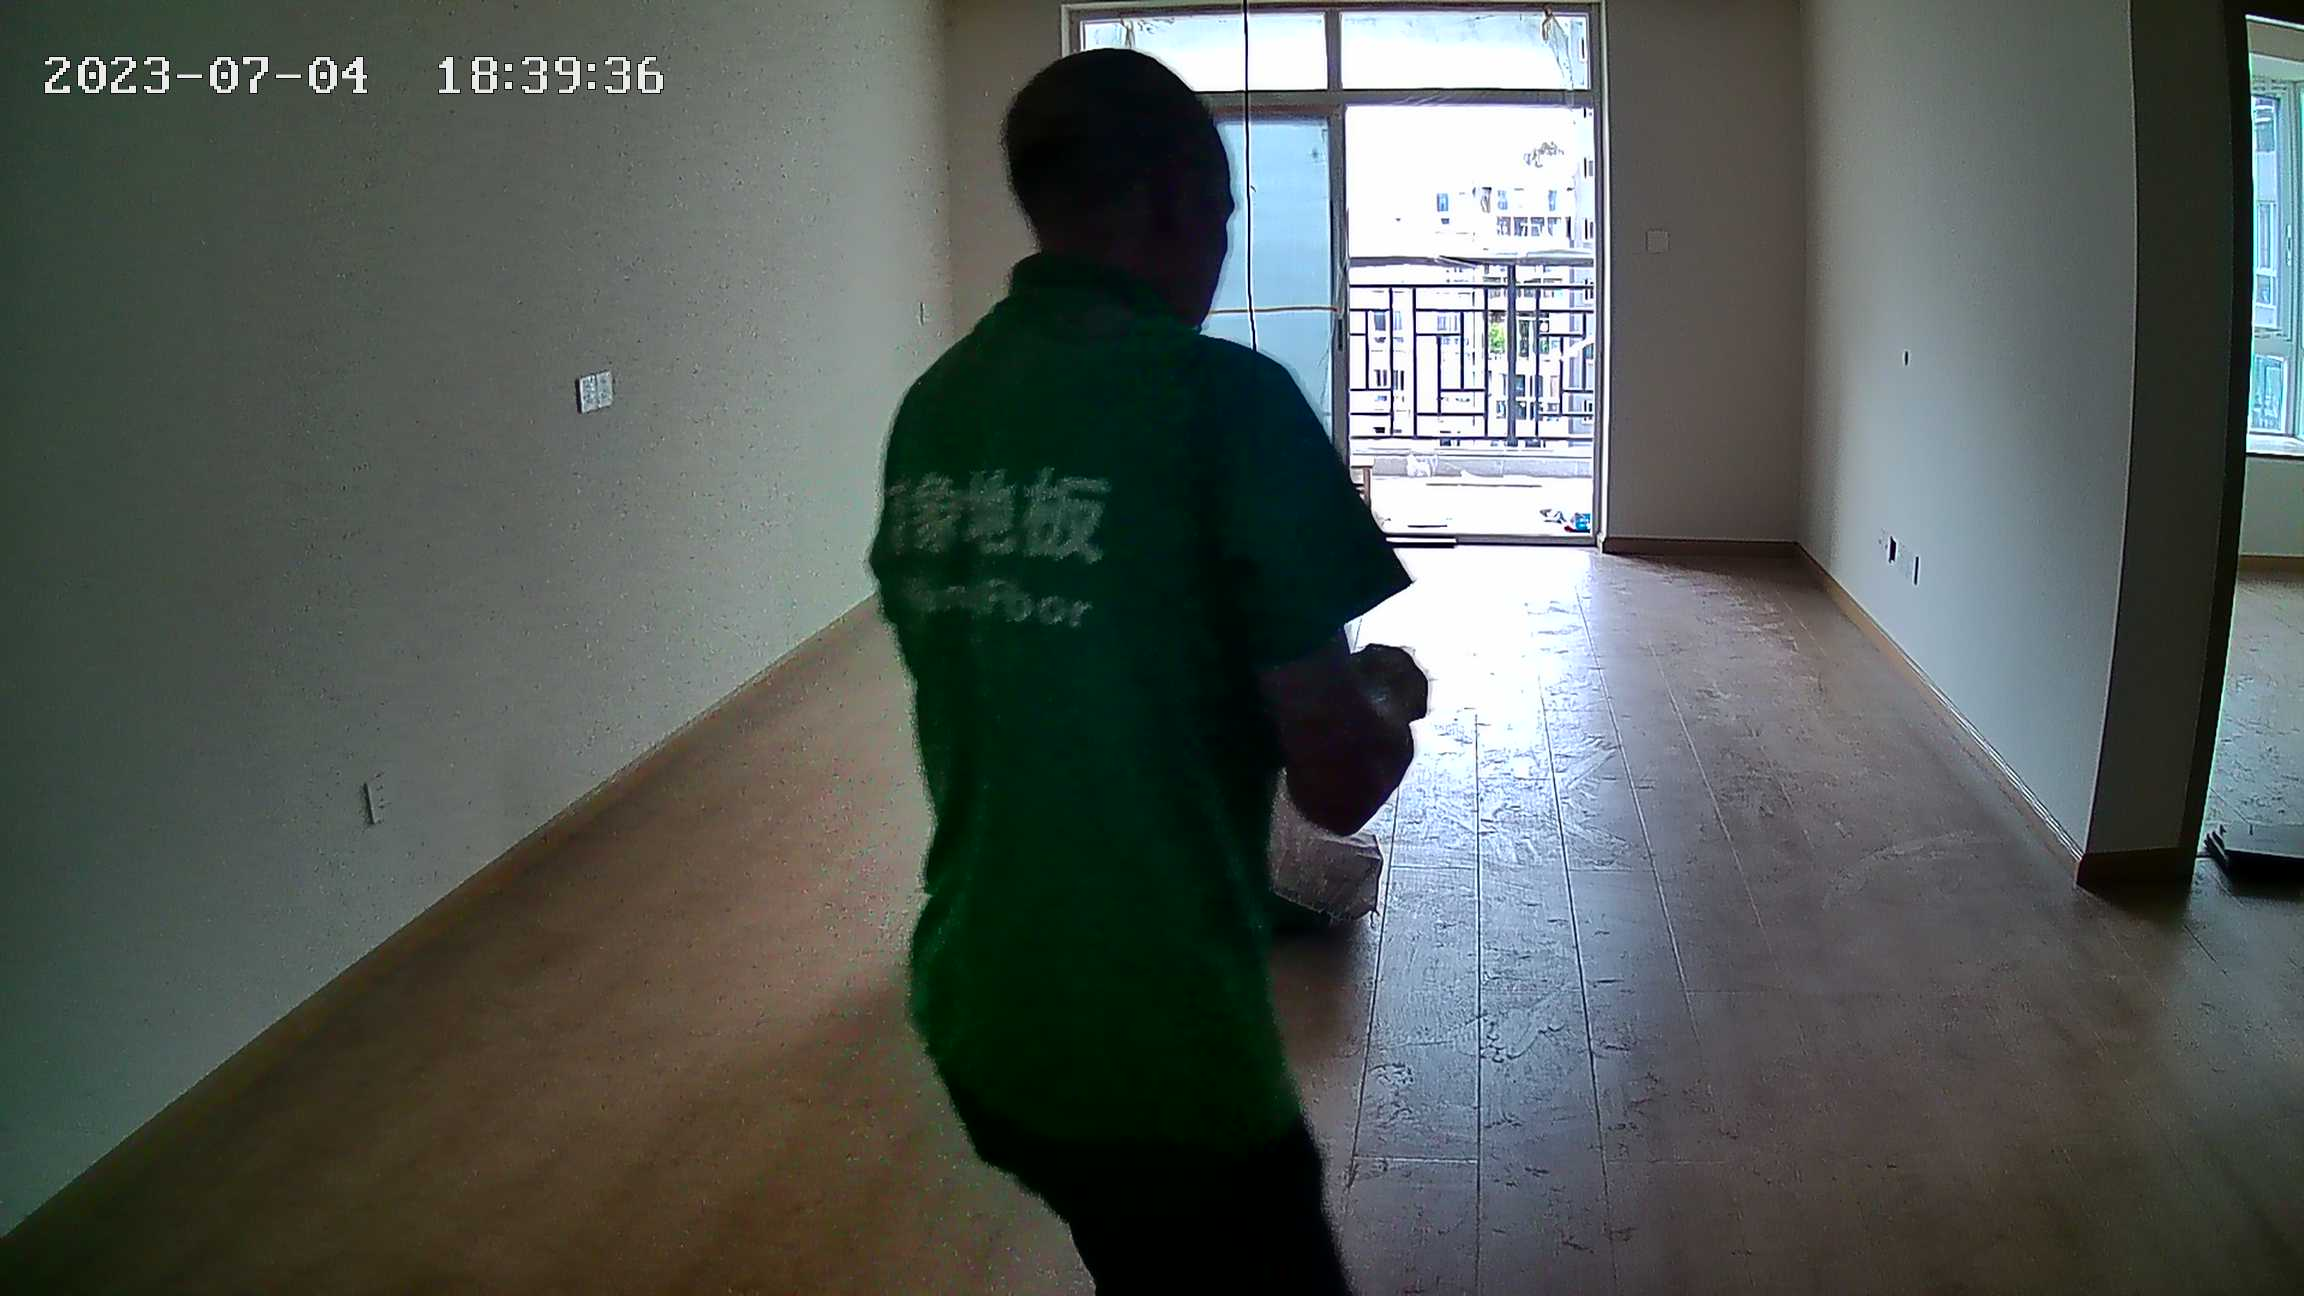people: (893, 58, 1425, 1296)
window: (1079, 12, 1599, 533), (2248, 72, 2297, 447)
